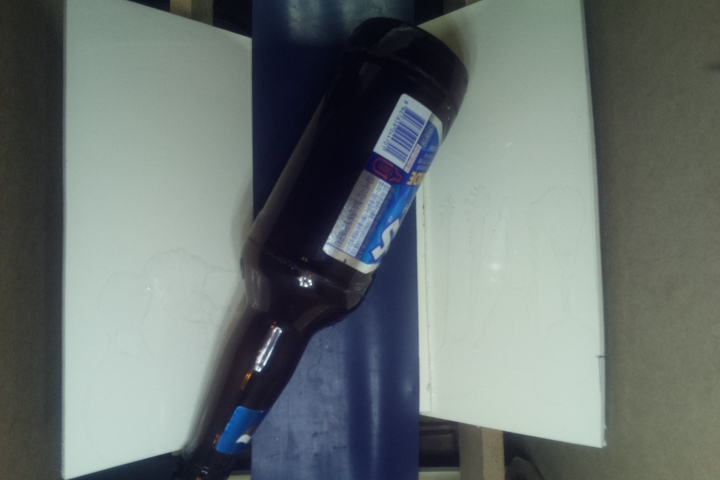makju: (176, 19, 473, 480)
